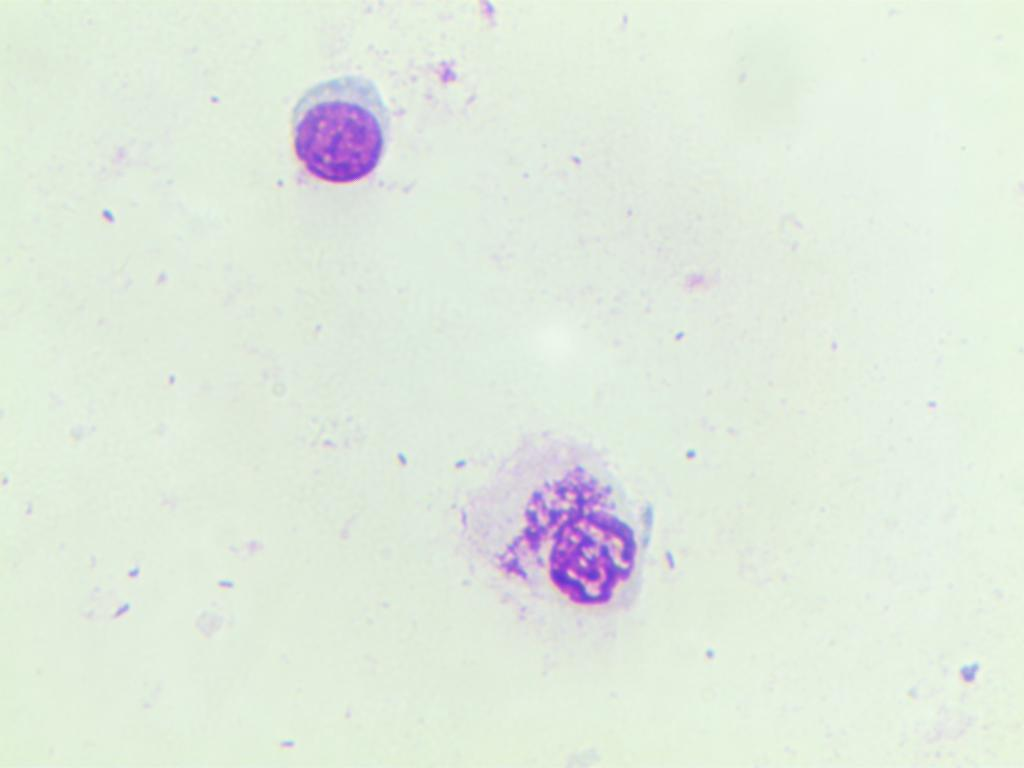artifact: (505, 458, 648, 614)
lymphocyte: (271, 62, 400, 186)
